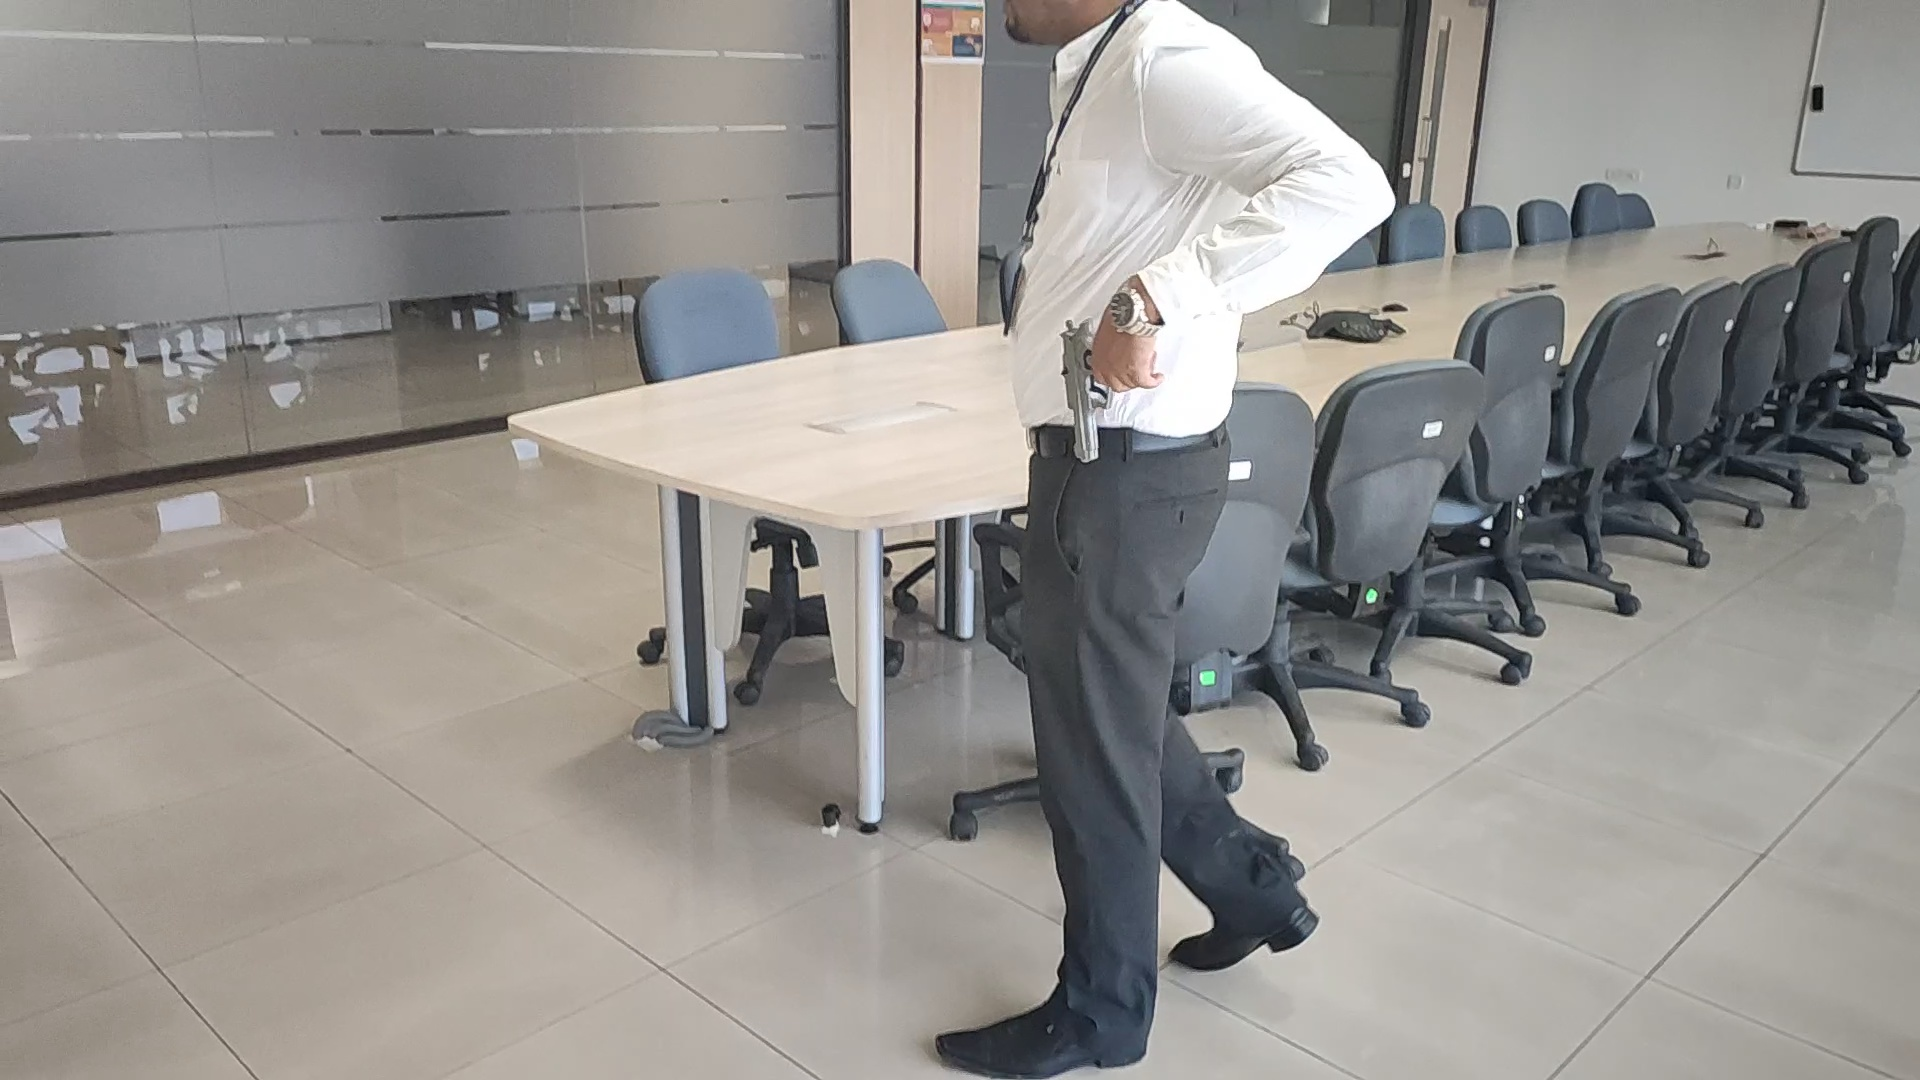gun: (1051, 319, 1116, 465)
